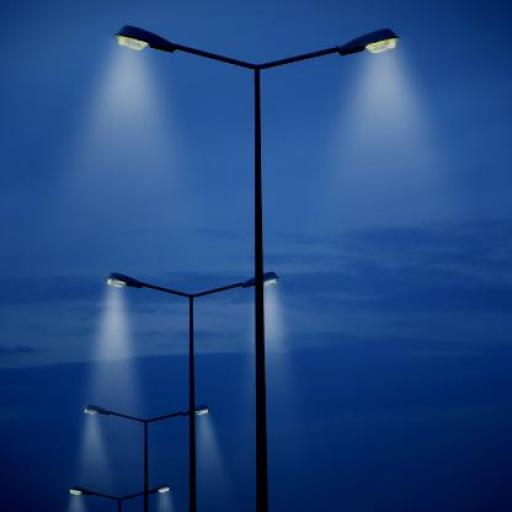street light: (114, 24, 402, 504), (106, 267, 280, 512), (84, 405, 215, 511), (69, 485, 171, 511)
